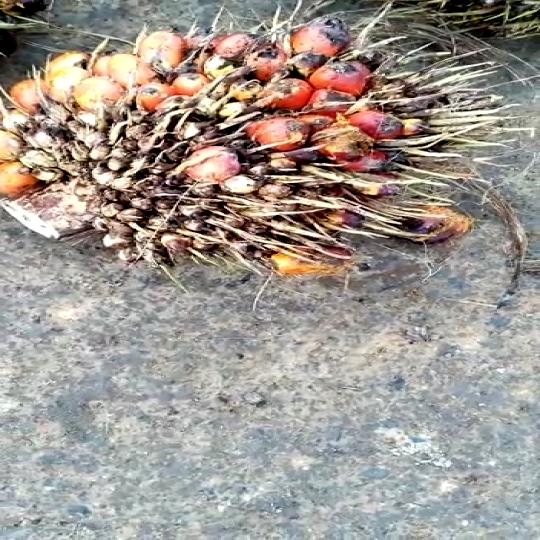masak: (0, 16, 538, 293)
